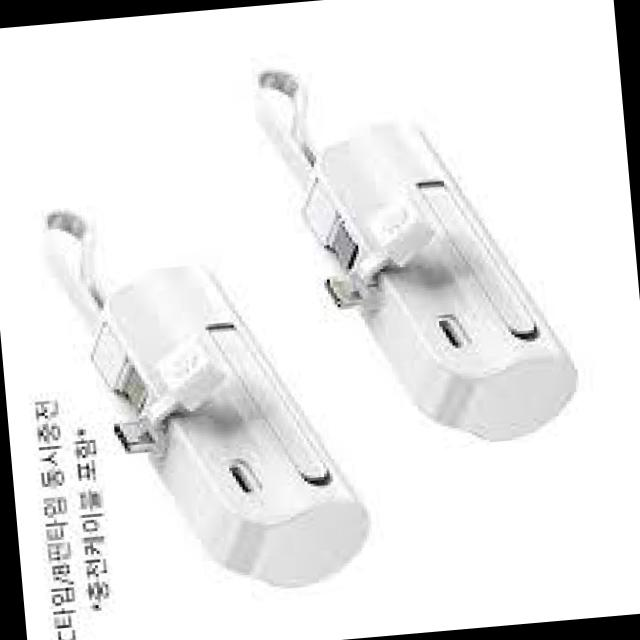power_bank: (80, 245, 373, 595), (291, 106, 584, 448)
